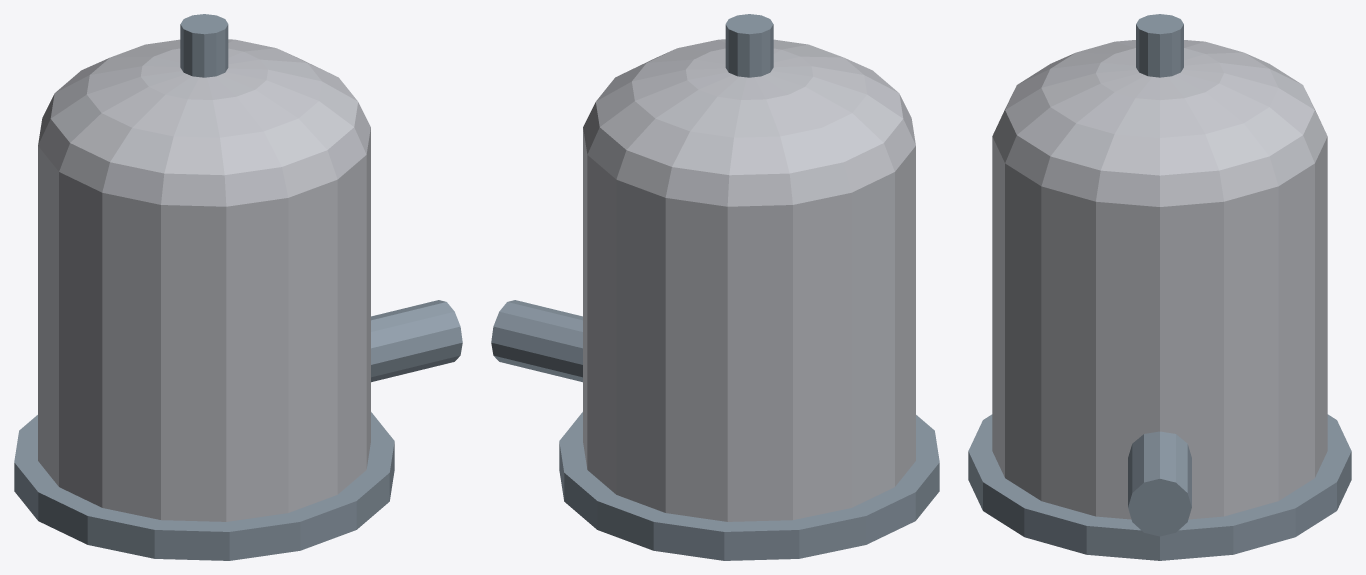
Rendered from PropStorageTank.fbx.
3 views of the same model, side by side, from view 1: azimuth 30°, elevation 25°; view 2: azimuth 150°, elevation 25°; view 3: azimuth 270°, elevation 25° (orthographic).
Visible parts, largest first — view 1: Tank_Body, Tank_Dome, Tank_BaseRing, Tank_Pipe, Tank_Vent; view 2: Tank_Body, Tank_Dome, Tank_BaseRing, Tank_Pipe, Tank_Vent; view 3: Tank_Body, Tank_Dome, Tank_BaseRing, Tank_Pipe, Tank_Vent.
Boxes of the visible parts, left/top/right/bottom form: Tank_Body: left=38, top=128, right=370, bottom=521; Tank_Dome: left=38, top=39, right=370, bottom=206; Tank_BaseRing: left=14, top=412, right=394, bottom=560; Tank_Pipe: left=371, top=300, right=462, bottom=382; Tank_Vent: left=180, top=14, right=228, bottom=77; Tank_Body: left=583, top=128, right=915, bottom=521; Tank_Dome: left=583, top=39, right=915, bottom=206; Tank_BaseRing: left=559, top=412, right=939, bottom=560; Tank_Pipe: left=491, top=300, right=582, bottom=382; Tank_Vent: left=725, top=14, right=773, bottom=77; Tank_Body: left=992, top=137, right=1327, bottom=519; Tank_Dome: left=992, top=40, right=1327, bottom=206; Tank_BaseRing: left=968, top=414, right=1351, bottom=560; Tank_Pipe: left=1128, top=431, right=1191, bottom=536; Tank_Vent: left=1136, top=14, right=1183, bottom=77.
Bounding box in the file's own units: 1.18 × 1.26 × 0.96.
